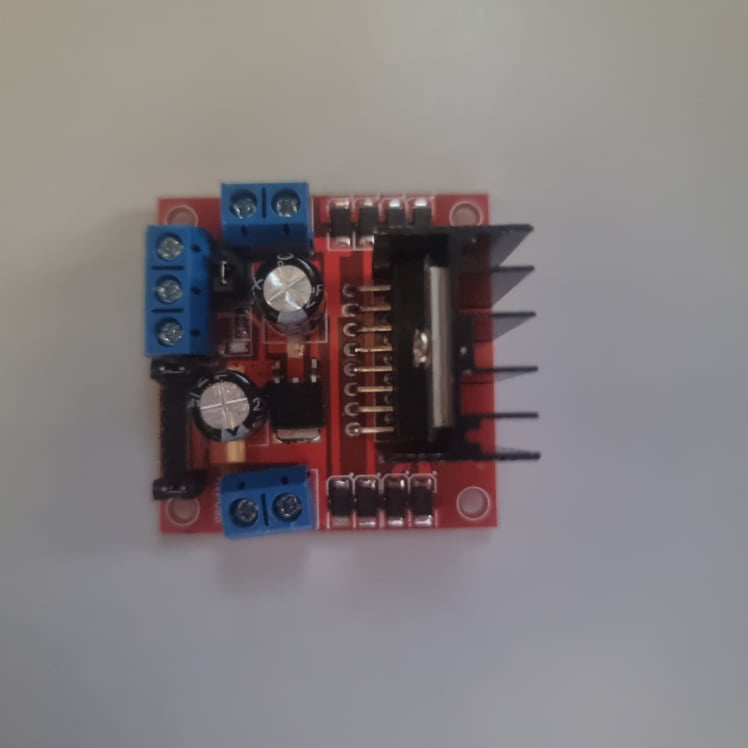MOTOR: (142, 179, 545, 545)
